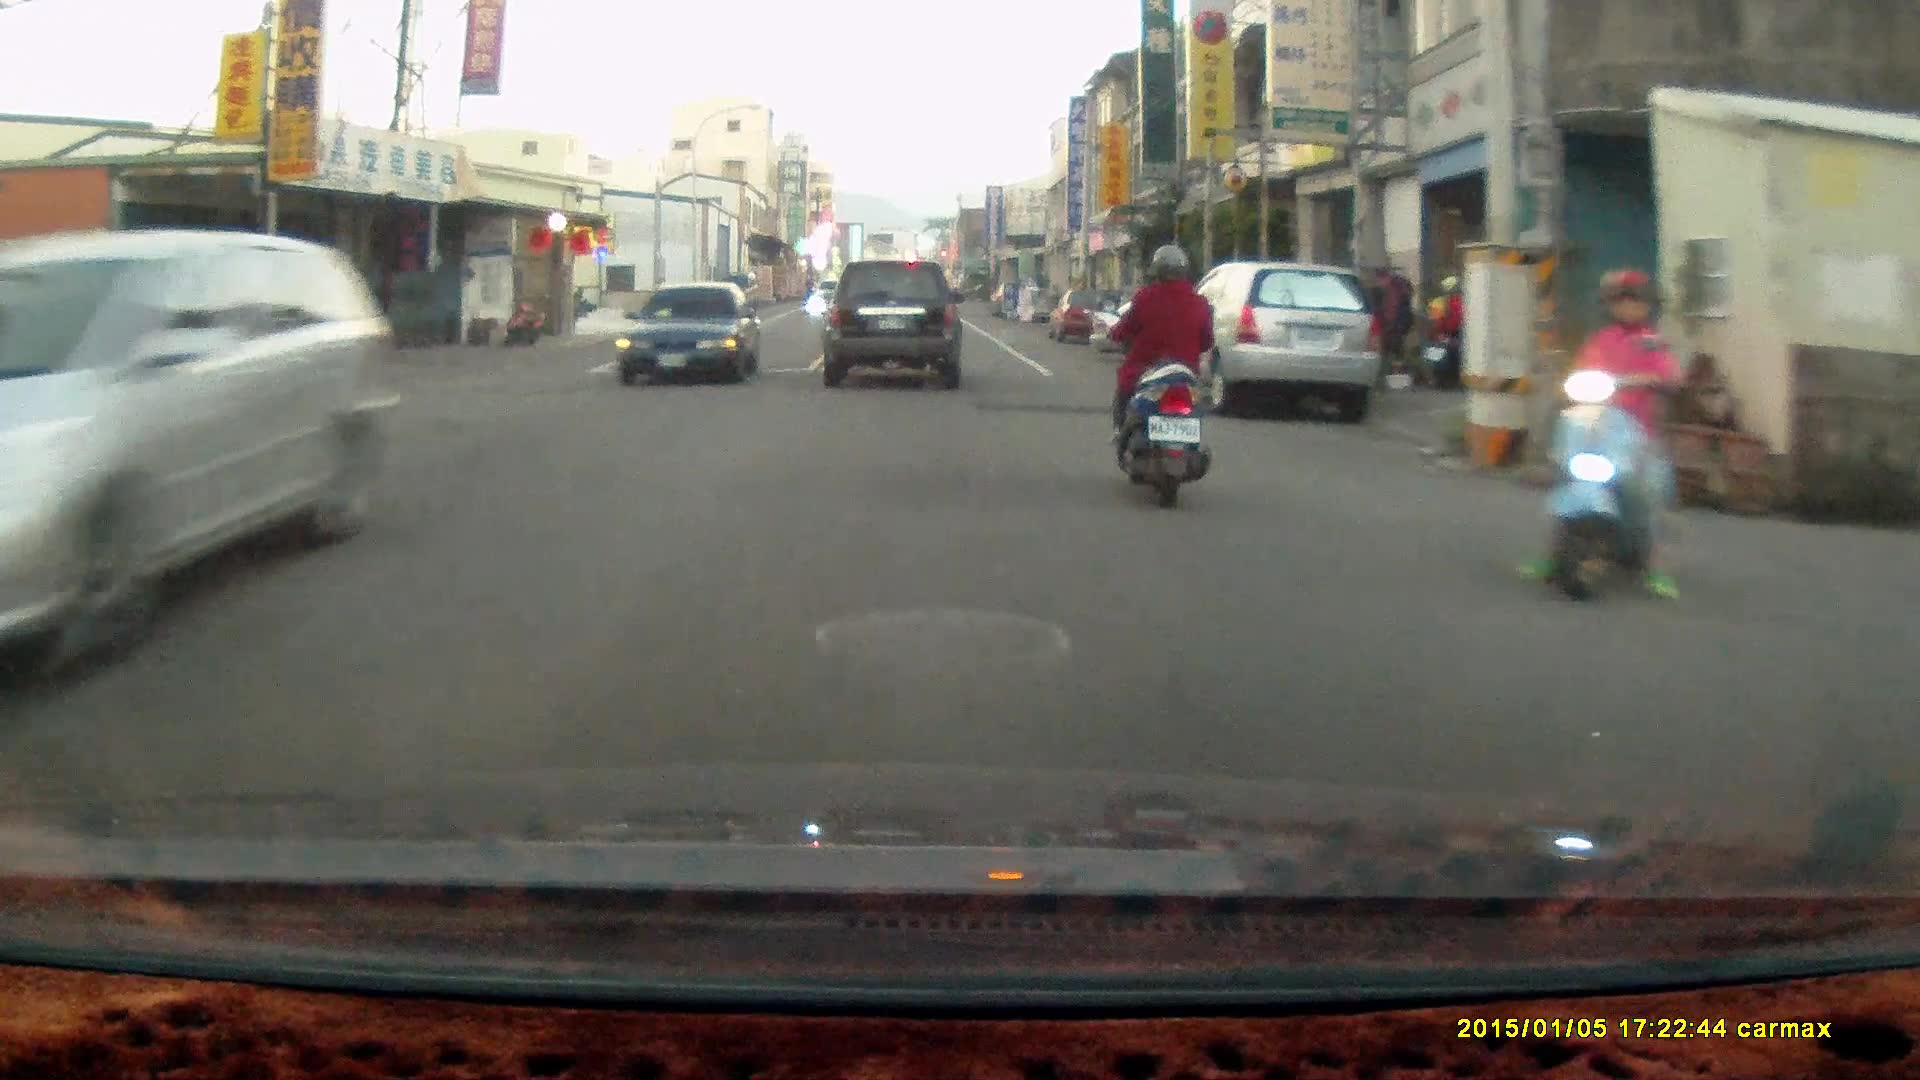rider: (1519, 268, 1694, 609), (1107, 239, 1213, 508), (1425, 270, 1466, 387)
vehicle: (1, 229, 402, 685), (1160, 260, 1382, 419), (823, 258, 965, 393), (621, 279, 763, 389)
